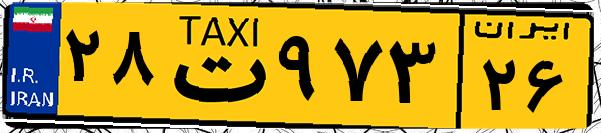2: (57, 26, 110, 100), (475, 38, 525, 113)
3: (385, 28, 445, 110)
6: (525, 38, 570, 115)
7: (330, 28, 385, 110)
8: (110, 28, 158, 98)
9: (270, 28, 330, 110)
ت: (158, 12, 270, 120)
